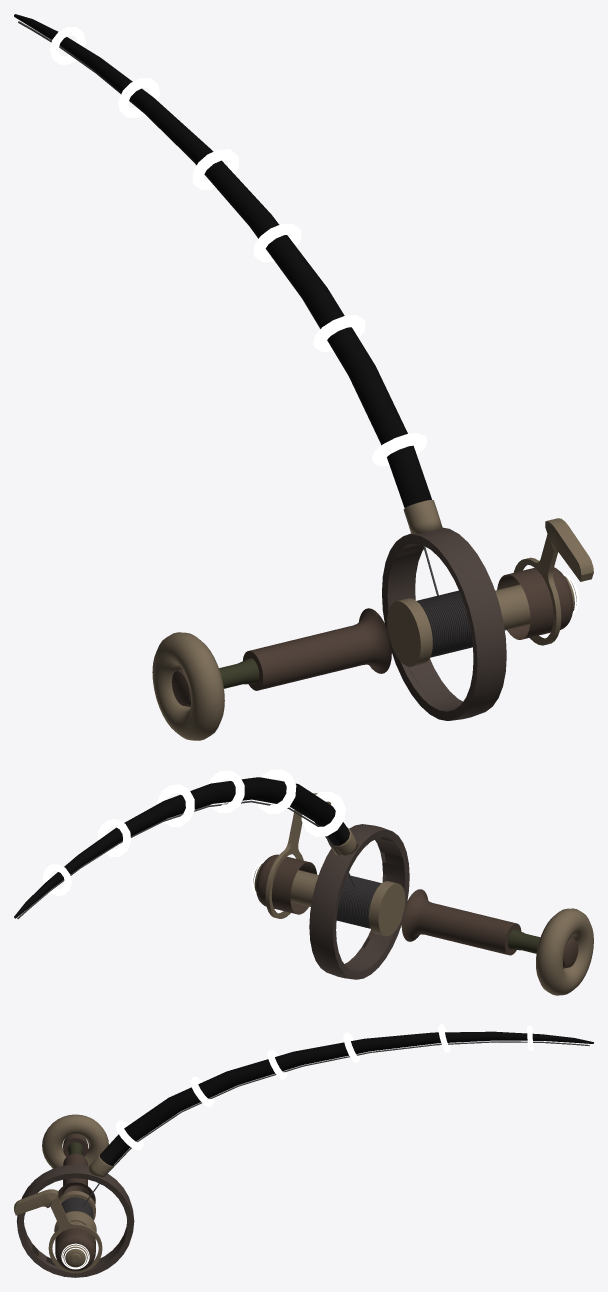
Rendered from fishing rod.fbx.
The picture shows the model from 3 angles, top to bottom: view 1: azimuth 30°, elevation 25°; view 2: azimuth 150°, elevation 25°; view 3: azimuth 270°, elevation 25°; orthographic projection. The views are drawn at different scales.
Parts seen in each view (by area): view 1: Sphere, BezierCurve, Sphere.003, BezierCurve.001, Sphere.002, Cylinder, Cylinder.001; view 2: Sphere, BezierCurve, BezierCurve.001, Sphere.003, Cylinder, Cylinder.001, Sphere.002, BezierCurve.002; view 3: BezierCurve, Sphere, Sphere.003, Sphere.002, BezierCurve.001, BezierCurve.002, Cylinder, Cylinder.001.
Boxes of the visible parts, <box> form: Sphere: <box>171,527,576,720</box>; BezierCurve: <box>14,14,442,533</box>; Sphere.003: <box>152,632,224,740</box>; BezierCurve.001: <box>50,27,427,466</box>; Sphere.002: <box>513,518,593,645</box>; Cylinder: <box>387,598,432,666</box>; Cylinder.001: <box>417,590,472,657</box>; Sphere: <box>253,824,578,979</box>; BezierCurve: <box>14,777,358,918</box>; BezierCurve.001: <box>42,769,345,895</box>; Sphere.003: <box>536,908,593,995</box>; Cylinder: <box>368,881,405,936</box>; Cylinder.001: <box>336,875,381,928</box>; Sphere.002: <box>265,793,330,918</box>; BezierCurve.002: <box>17,800,355,918</box>; BezierCurve: <box>87,1031,593,1177</box>; Sphere: <box>16,1134,134,1277</box>; Sphere.003: <box>42,1114,108,1168</box>; Sphere.002: <box>14,1189,102,1273</box>; BezierCurve.001: <box>115,1024,533,1150</box>; BezierCurve.002: <box>82,1041,589,1206</box>; Cylinder: <box>54,1191,96,1232</box>; Cylinder.001: <box>61,1197,93,1219</box>.
Size of the model in its own units: 287 by 283 by 597.
14 materials, 12 textured.
